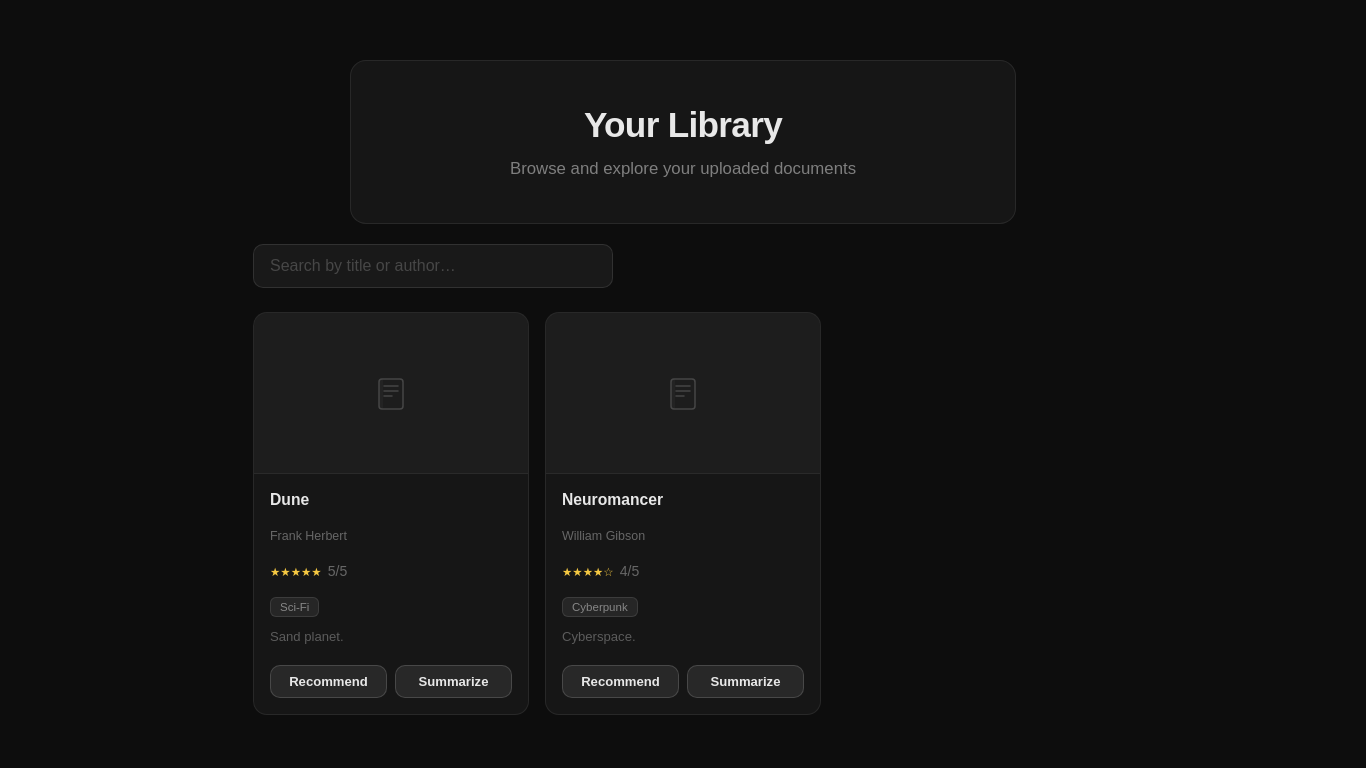
Test case: Library component › opens recommend modal on Recommend click
The image size is (1366, 768).
Expected: the text "Dune" is shown, left=270, top=491, right=309, bottom=508
Click the button "Recommend" below "Sand planet.".
click(328, 681)  # box left=270, top=664, right=387, bottom=698
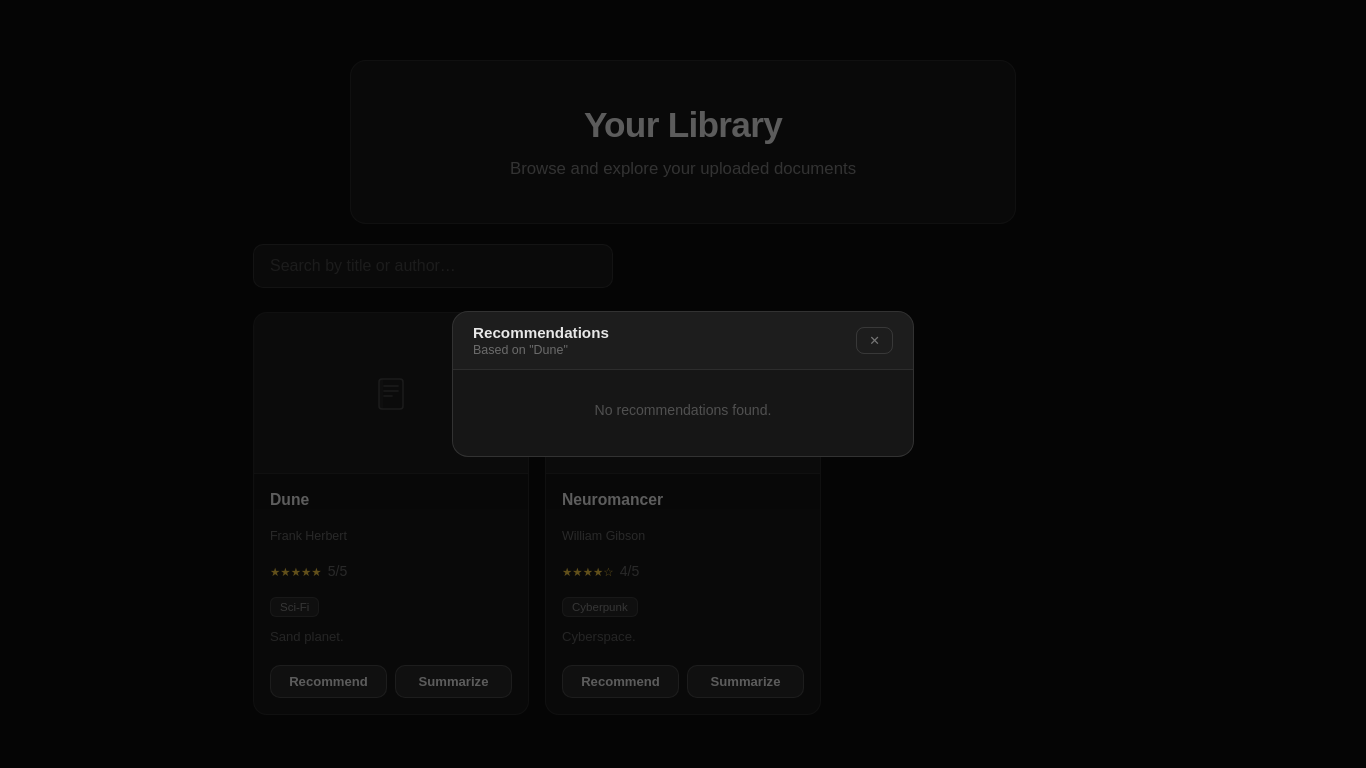
Result: the text "Recommendations" is shown at left=473, top=324, right=609, bottom=341
